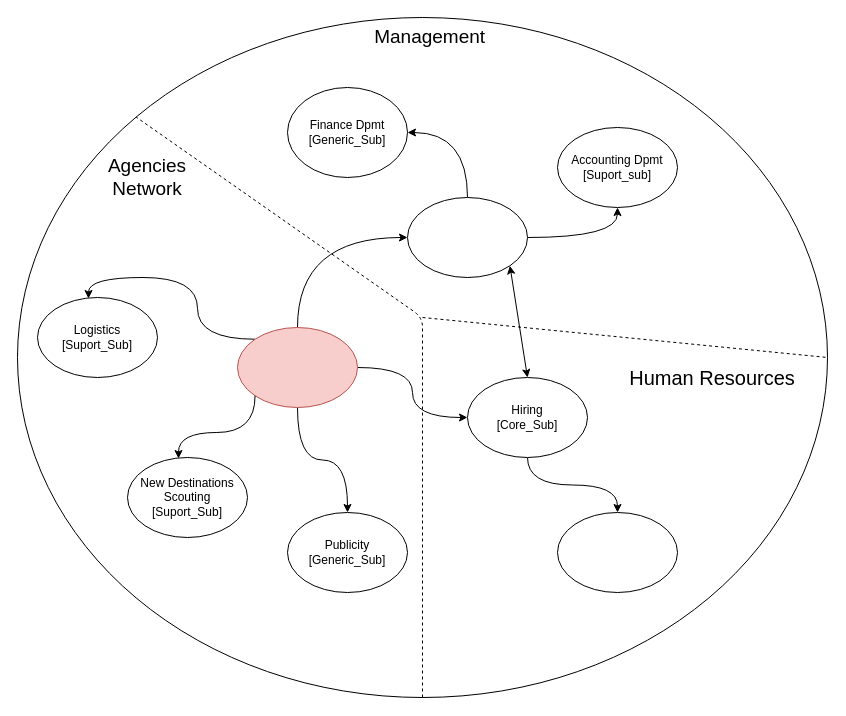
This 846x716 diagram has some shape labels left out. Each missing label, with the centre of its shape:
Management Dpmt [Core_Sub]: pixel 467 237
Salary Settlement [Generic_Sub]: pixel 617 552
Tourism Agencies [Core_Sub]: pixel 297 367
